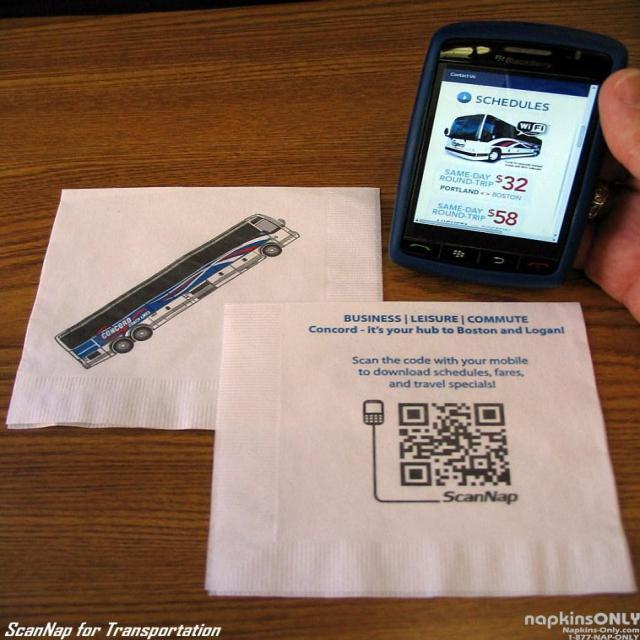qrcode: (399, 404, 512, 487)
